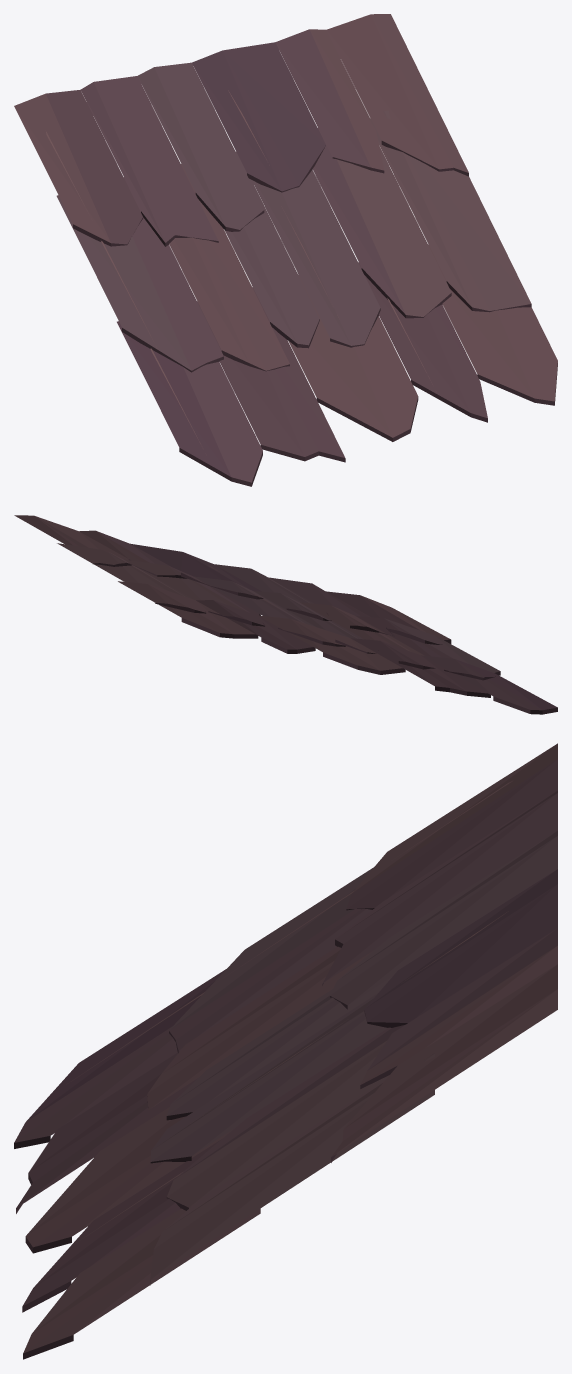
The model's file is CleftShakes65.glb.
The picture shows the model from 3 angles, top to bottom: view 1: azimuth 30°, elevation 25°; view 2: azimuth 150°, elevation 25°; view 3: azimuth 270°, elevation 25°; orthographic projection. The views are drawn at different scales.
Parts seen in each view (by area): view 1: CleftShakes65; view 2: CleftShakes65; view 3: CleftShakes65.
Boxes of the visible parts, left/top/right/bottom form: CleftShakes65: left=14, top=14, right=557, bottom=486; CleftShakes65: left=14, top=515, right=557, bottom=714; CleftShakes65: left=14, top=743, right=557, bottom=1359.
Size of the model in its own units: 2.02 by 1.34 by 1.75.
